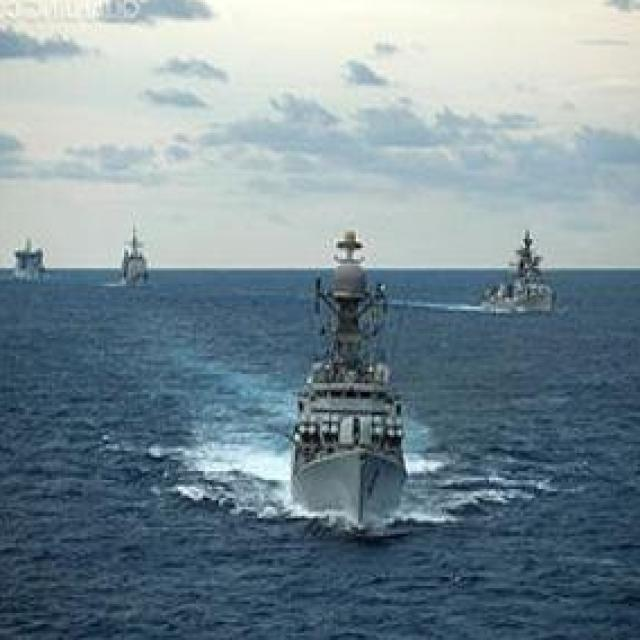navalvessels: (285, 221, 410, 529), (487, 223, 553, 311), (118, 212, 150, 288), (11, 234, 48, 285)
